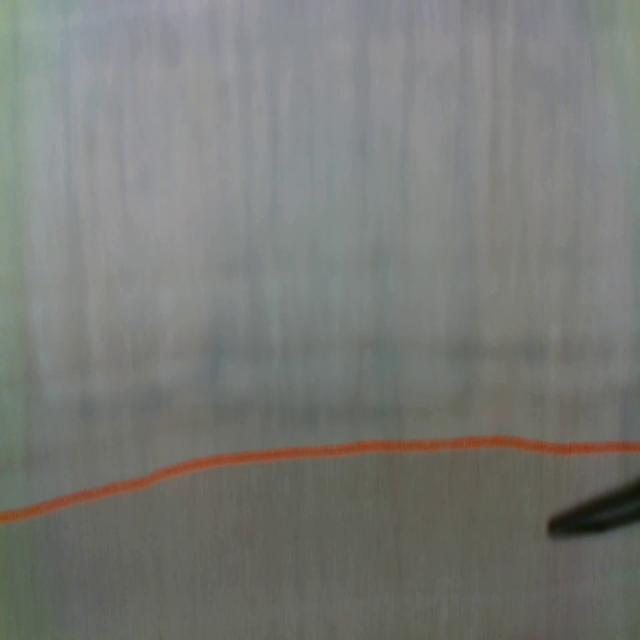color bleeding: (1, 303, 640, 432)
